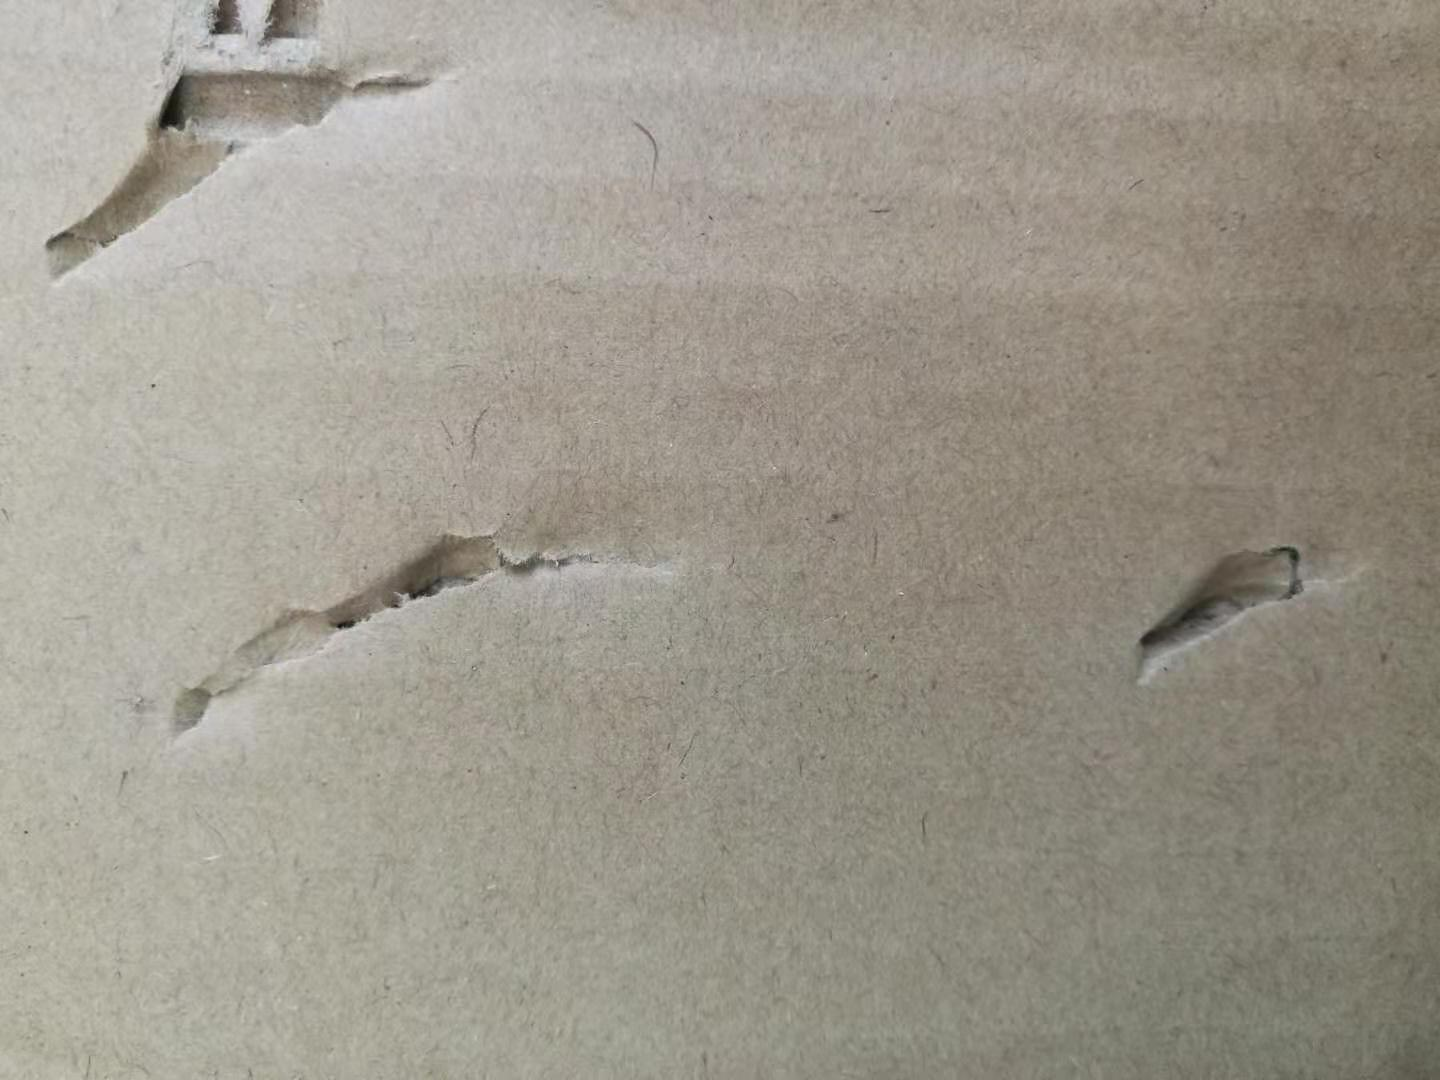defect: (126, 462, 743, 773), (17, 1, 506, 309), (1113, 503, 1420, 710)
